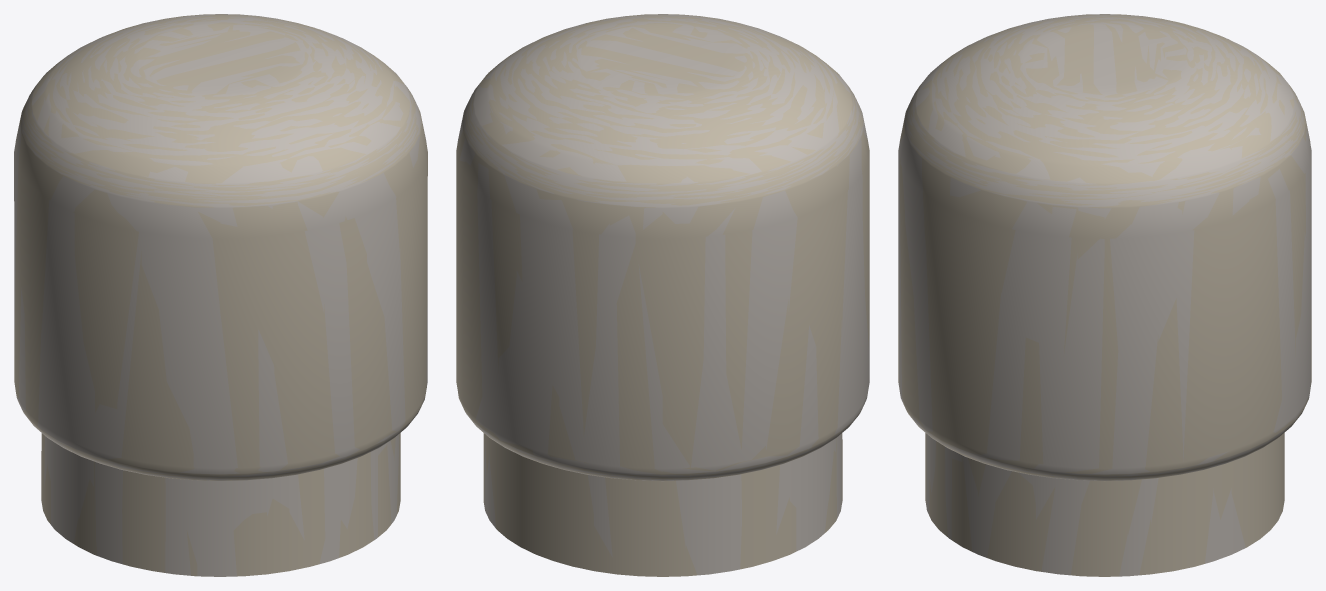
Rendered from original-10.obj.
3 views of the same model, side by side, from view 1: azimuth 30°, elevation 25°; view 2: azimuth 150°, elevation 25°; view 3: azimuth 270°, elevation 25° (orthographic).
Parts seen in each view (by area): view 1: #ID290; view 2: #ID290; view 3: #ID290.
Boxes of the visible parts, box(x1,y1,x2,y2) form: #ID290: box(14, 14, 427, 576); #ID290: box(456, 14, 869, 576); #ID290: box(898, 14, 1311, 576).
Bounding box in the file's own units: 0.2999 × 0.3546 × 0.2998.
Materials: 2 (1 with a texture image).
